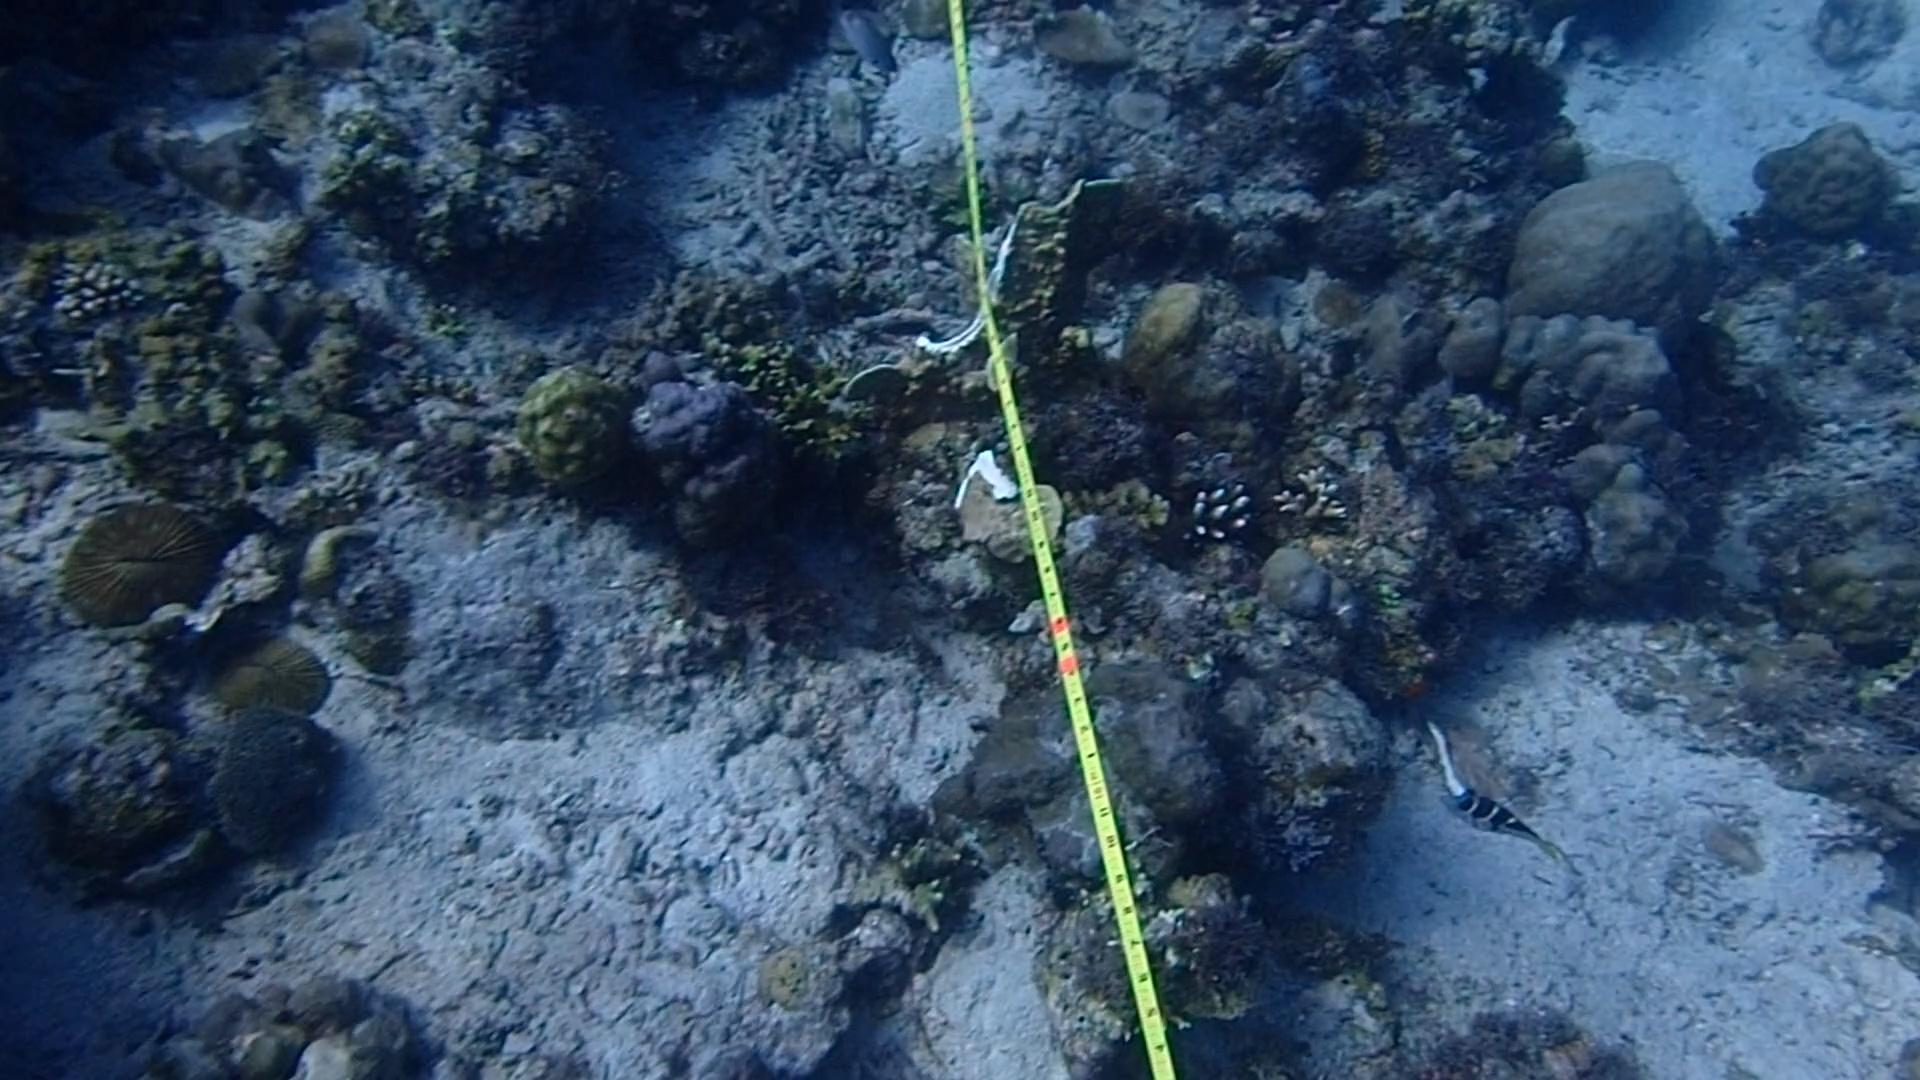Striped Fish: (1443, 781, 1571, 868)
